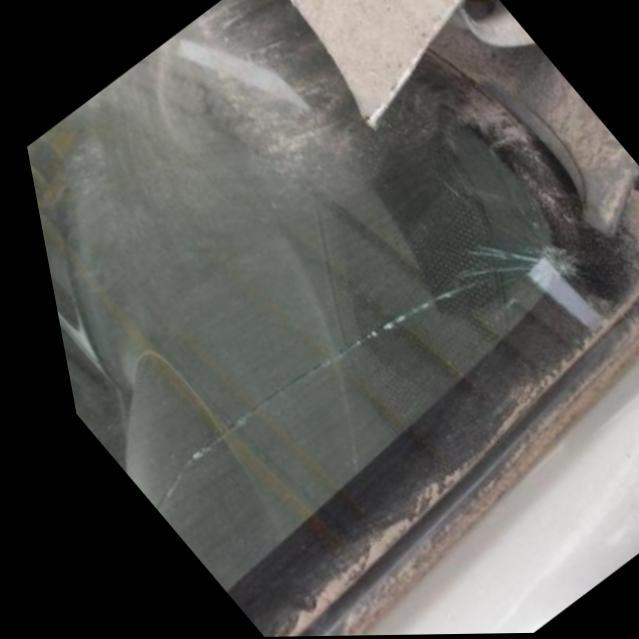glass shatter: (482, 217, 580, 300)
